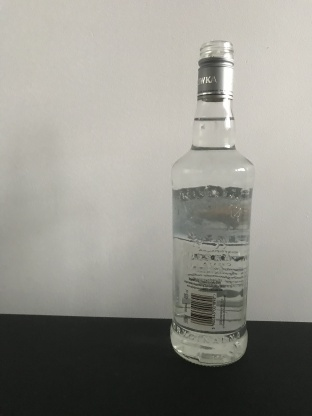nakretka: (195, 39, 236, 101)
